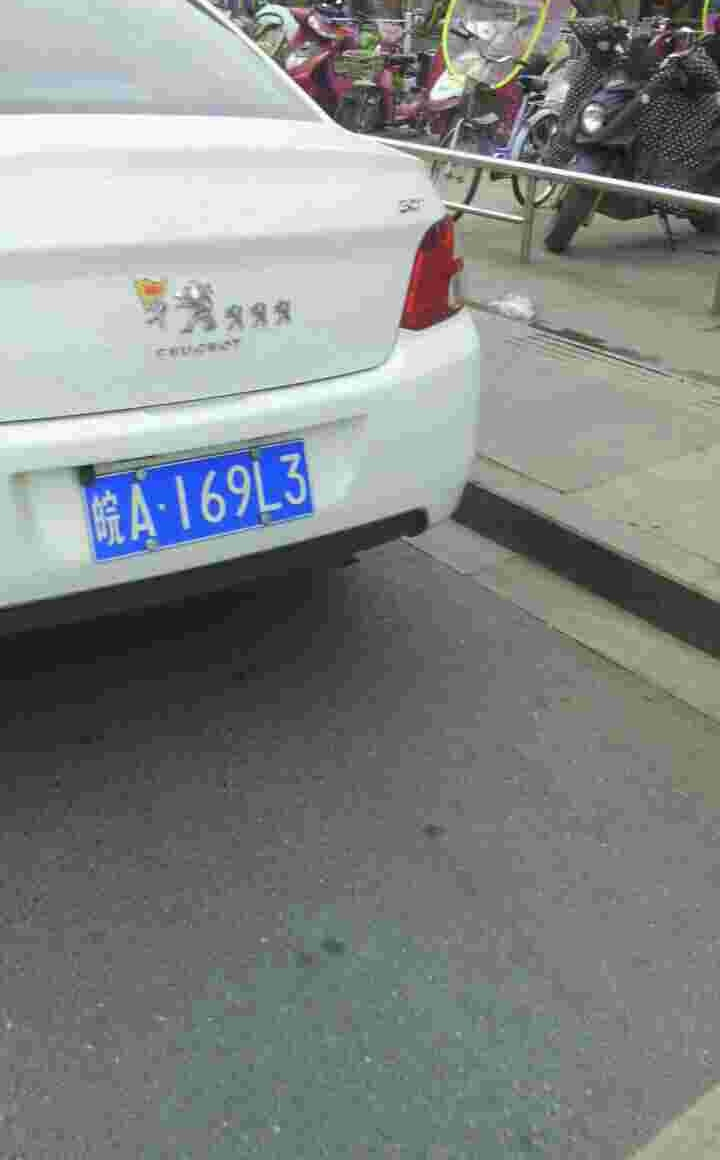license_plate: (83, 433, 326, 565)
